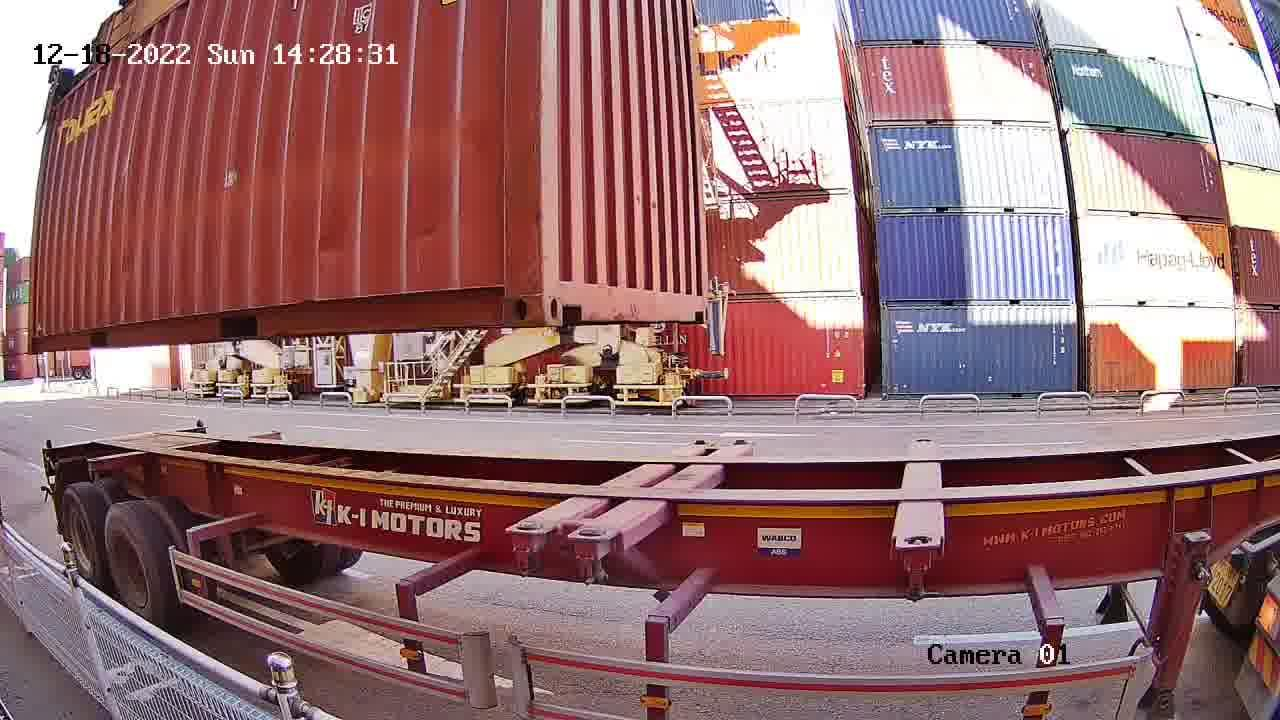Chassis: (571, 440, 752, 553), (506, 440, 723, 534)
Cone: (510, 514, 544, 580), (575, 522, 610, 584)
Hole_L: (543, 251, 600, 325)
Hole_R: (460, 247, 545, 326), (680, 271, 711, 325)
Tire: (105, 512, 155, 619), (62, 494, 98, 580)
